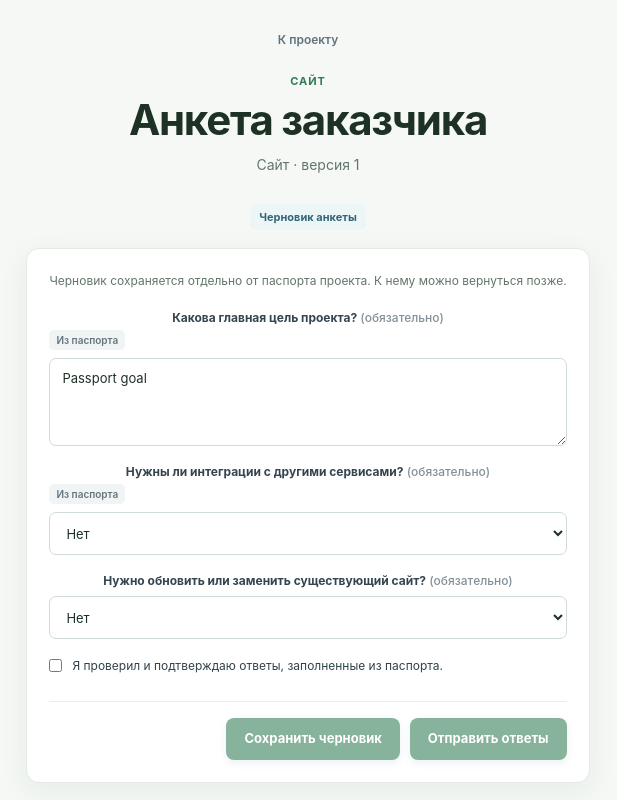
Test: customer keeps local answers after a recoverable draft save error and can retry
The width and height of the screenshot is (617, 800).
Step 1. Replace the text in the text box labelled "Какова главная цель проекта? (обязательно)" with "Unsaved goal" → (308, 402), box [49,358,567,446]
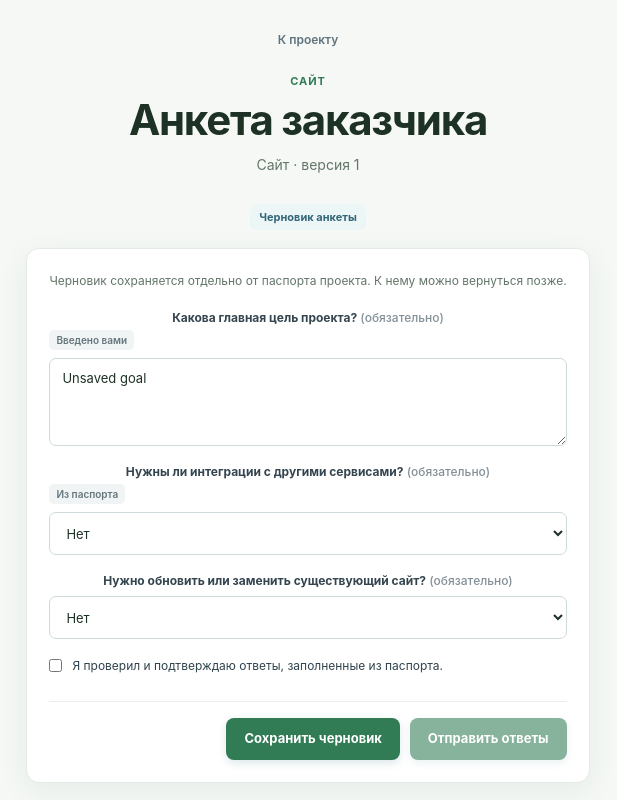
Step 2. Click the button "Сохранить черновик" → (313, 739), box [226,718,400,760]
(page scrolled)
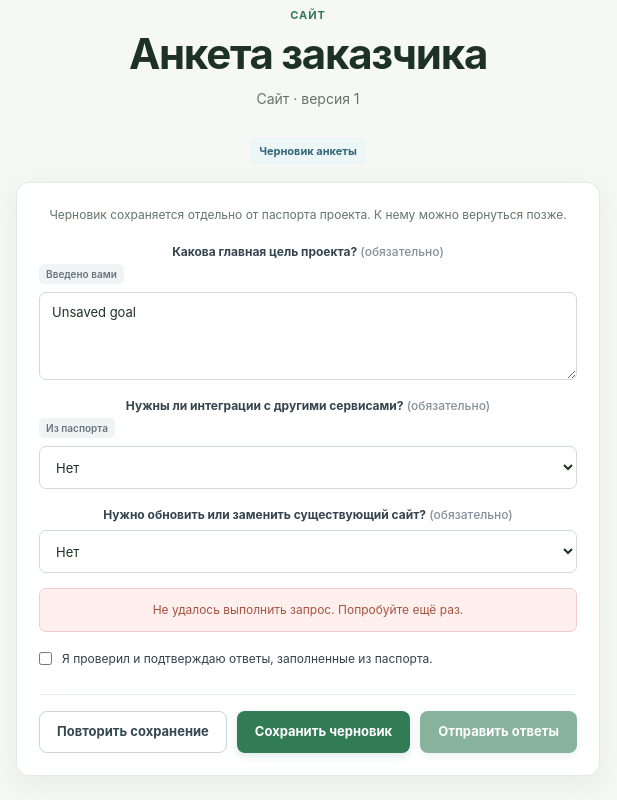
Expected: the text "Не удалось выполнить запрос. Попробуйте ещё раз." is shown, [39,588,577,632]
Step 3. Click the button "Повторить сохранение" → (133, 732), box [39,711,227,753]
(page scrolled)
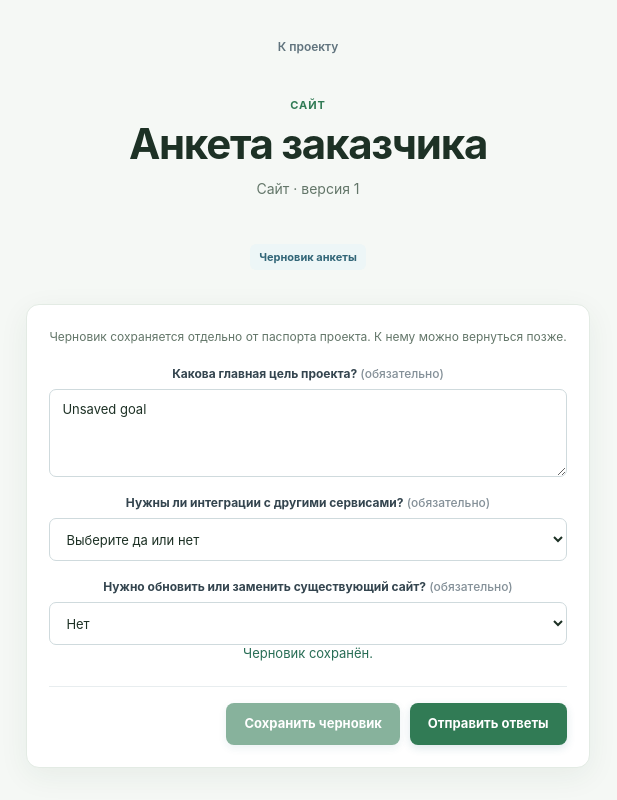
Expected: the text "Черновик сохранён." is shown, [243,645,373,661]
